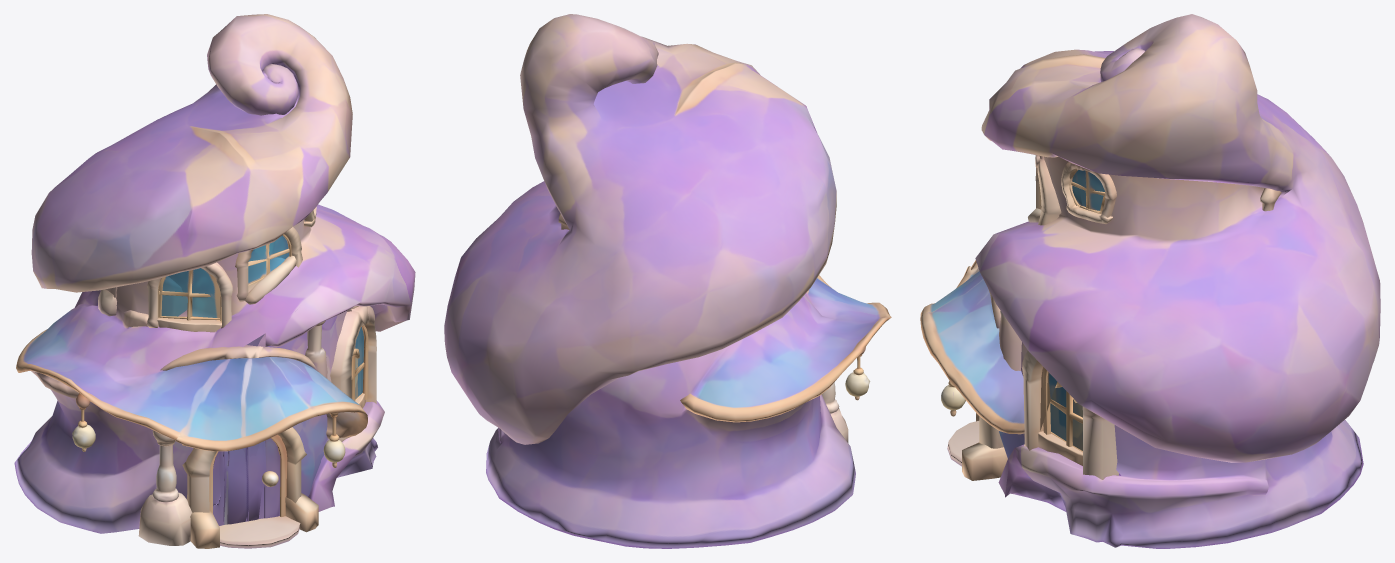
The model's file is seashell-cottage.glb.
The picture shows the model from 3 angles, left to right: view 1: azimuth 30°, elevation 25°; view 2: azimuth 150°, elevation 25°; view 3: azimuth 270°, elevation 25°; orthographic projection. The views are drawn at different scales.
Parts seen in each view (by area): view 1: geometry_0; view 2: geometry_0; view 3: geometry_0.
Boxes of the visible parts, x1,y1,x2,y2 form: geometry_0: (14, 14, 415, 548); geometry_0: (444, 14, 891, 548); geometry_0: (920, 14, 1380, 548).
Size of the model in its own units: 0.8677 by 0.9536 by 0.8325.
Materials: 1 (1 with a texture image).
